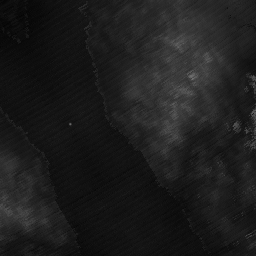Target: (66, 120, 73, 127)
